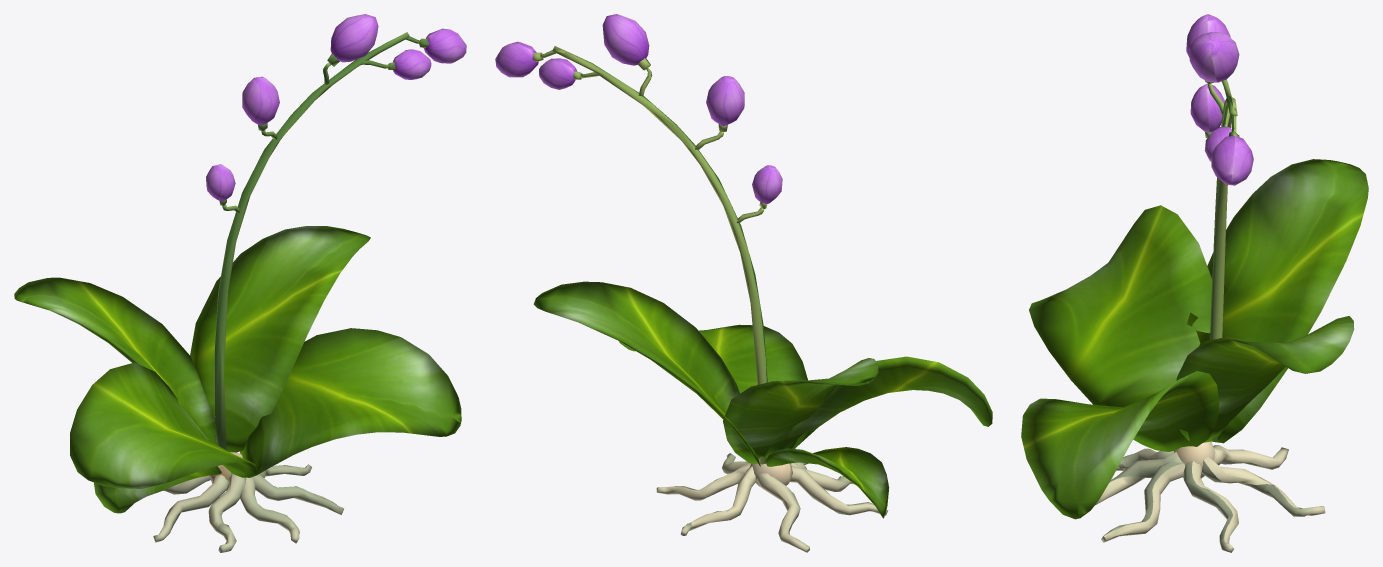
The model's file is NP_Orchid_BudForming_LOD1.fbx.
3 renders of one model, left to right at view 1: azimuth 30°, elevation 25°; view 2: azimuth 150°, elevation 25°; view 3: azimuth 270°, elevation 25°, orthographic. The views are drawn at different scales.
Parts seen in each view (by area): view 1: NP_Orchid_BudForming; view 2: NP_Orchid_BudForming; view 3: NP_Orchid_BudForming.
Boxes of the visible parts, x1,y1,x2,y2 form: NP_Orchid_BudForming: (14, 14, 466, 552); NP_Orchid_BudForming: (495, 14, 992, 552); NP_Orchid_BudForming: (1021, 14, 1368, 552).
Size of the model in its own units: 90.3 by 88.23 by 50.9.
Materials: 1 (1 with a texture image).
